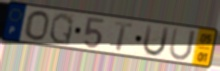5: (81, 16, 108, 50)
O: (24, 9, 51, 42)
Q: (48, 12, 75, 47)
T: (114, 21, 135, 53)
U: (168, 27, 198, 62), (141, 23, 171, 58)
